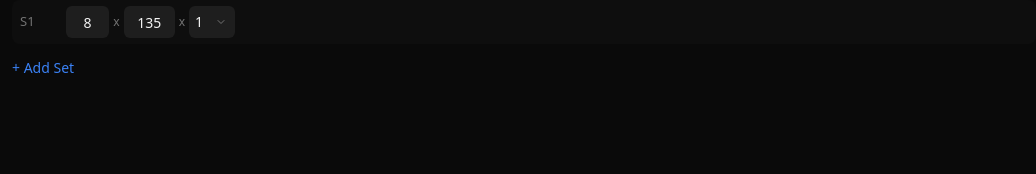
Scenario: GoalSetEditor › supports grouped set counts alongside explicit add and remove controls
expect the button labelled "+ Add Set" is shown: met, box [12,44,74,92]
expect the text "S1" is shown: met, box [20,12,35,30]
Select "3" in the dropdown named "Set count for S1": [212, 22] box [189,6,236,38]
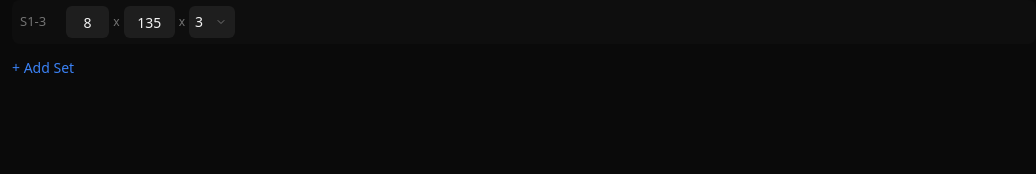
expect the text "S1-3" is shown: met, box [20,12,46,30]
Click the button labelled "+ Add Set": [43, 68] box [12,44,74,92]
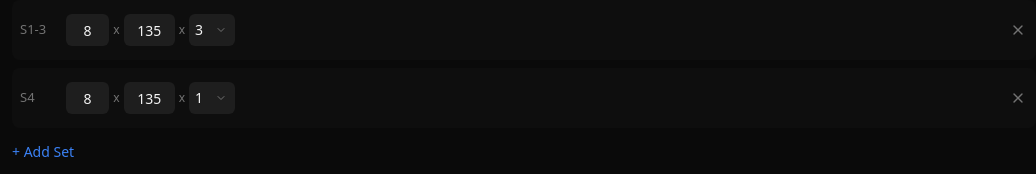
expect the text "S4" is shown: met, box [20,88,35,106]
expect the button named "Remove set 1" is shown: met, box [1008,6,1028,54]
expect the button named "Remove set 4" is shown: met
Click the button named "Remove set 4": [1018, 98] box [1008,74,1028,122]
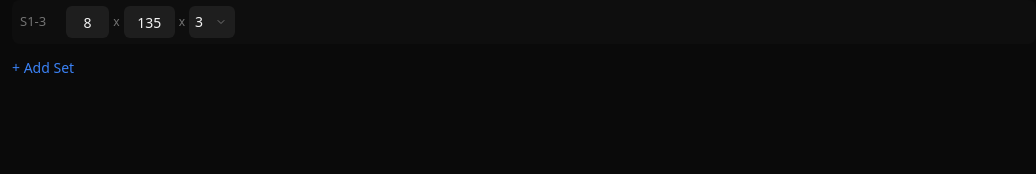
expect the text "S4" is gone: met
